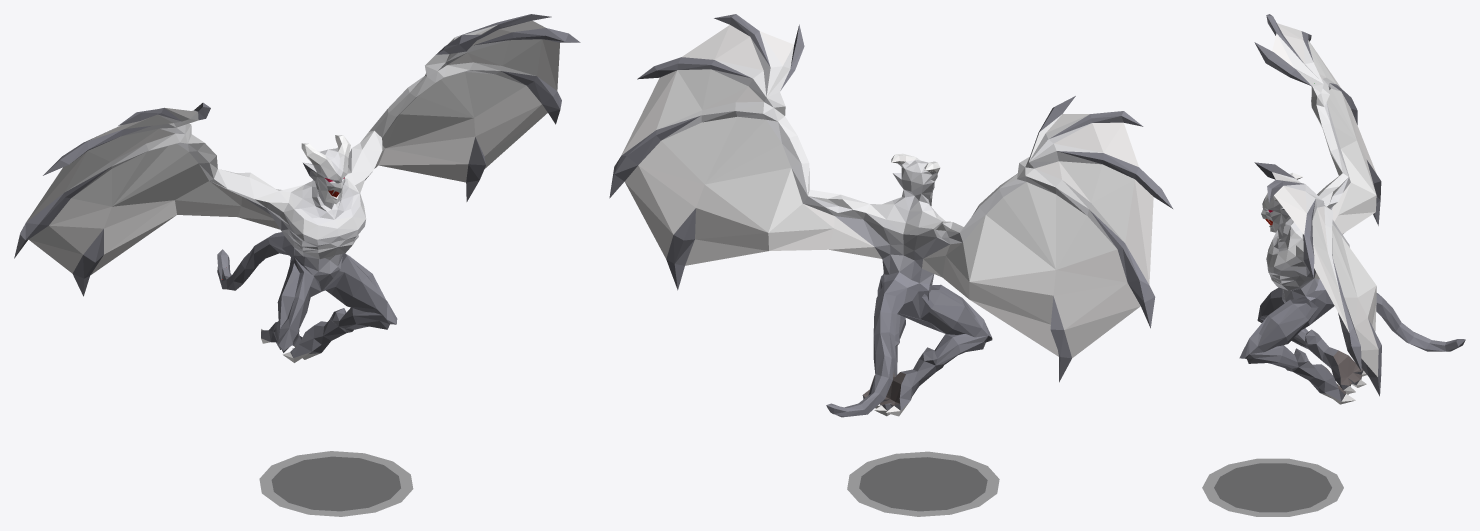
File: superior_gargoyle.glb
The picture shows the model from 3 angles, left to right: view 1: azimuth 30°, elevation 25°; view 2: azimuth 150°, elevation 25°; view 3: azimuth 270°, elevation 25°; orthographic projection. The views are drawn at different scales.
Bounding box in the file's own units: 846 × 631 × 390.
2 materials, 2 textured.
